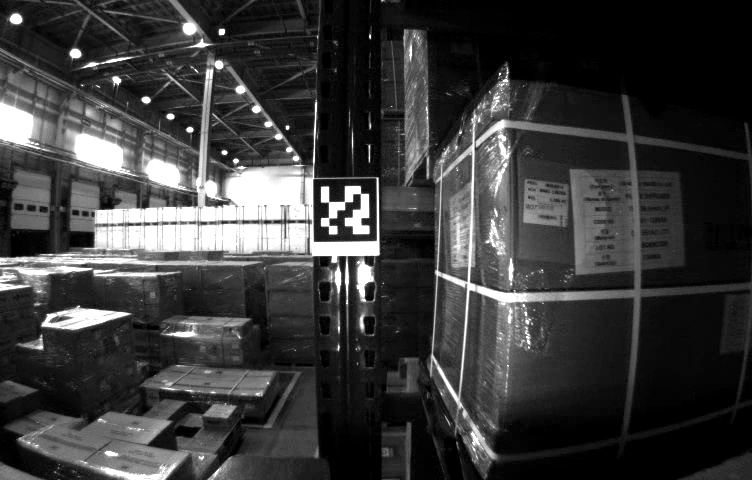True Barcode: (524, 177, 569, 229)
